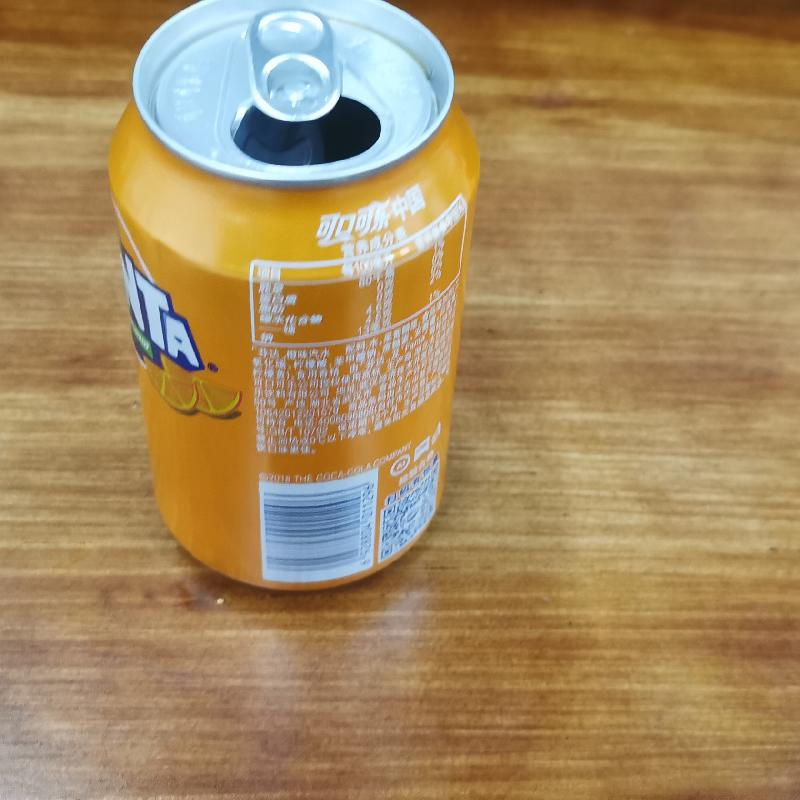cans: (96, 0, 487, 595)
